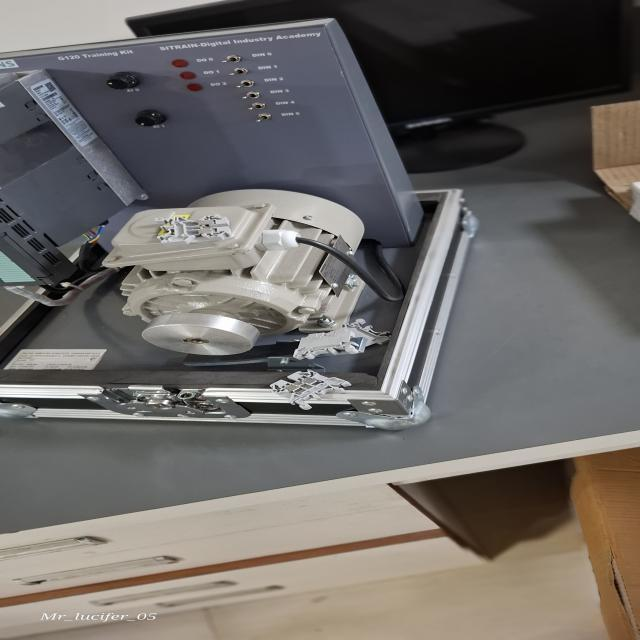Inverted: (292, 330, 361, 359)
Pass: (266, 368, 352, 411), (151, 216, 234, 246)
